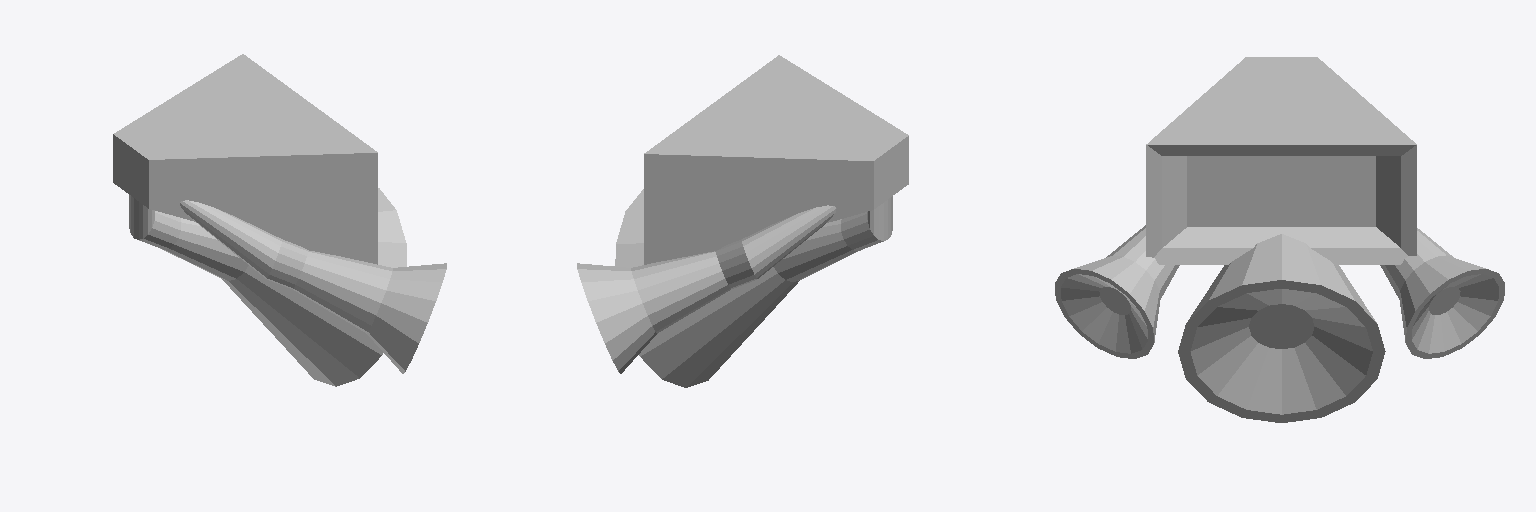
File: speaker.obj
The picture shows the model from 3 angles: view 1: azimuth 30°, elevation 25°; view 2: azimuth 150°, elevation 25°; view 3: azimuth 270°, elevation 25°; orthographic projection.
Visible parts, largest first — view 1: Cube1_Cube1_auv; view 2: Cube1_Cube1_auv; view 3: Cube1_Cube1_auv.
Boxes of the visible parts, box(x1,y1,x2,y2) form: Cube1_Cube1_auv: box(113, 54, 446, 386); Cube1_Cube1_auv: box(577, 55, 908, 387); Cube1_Cube1_auv: box(1055, 57, 1504, 422).
Bounding box in the file's own units: 2.76 × 2.95 × 4.34.